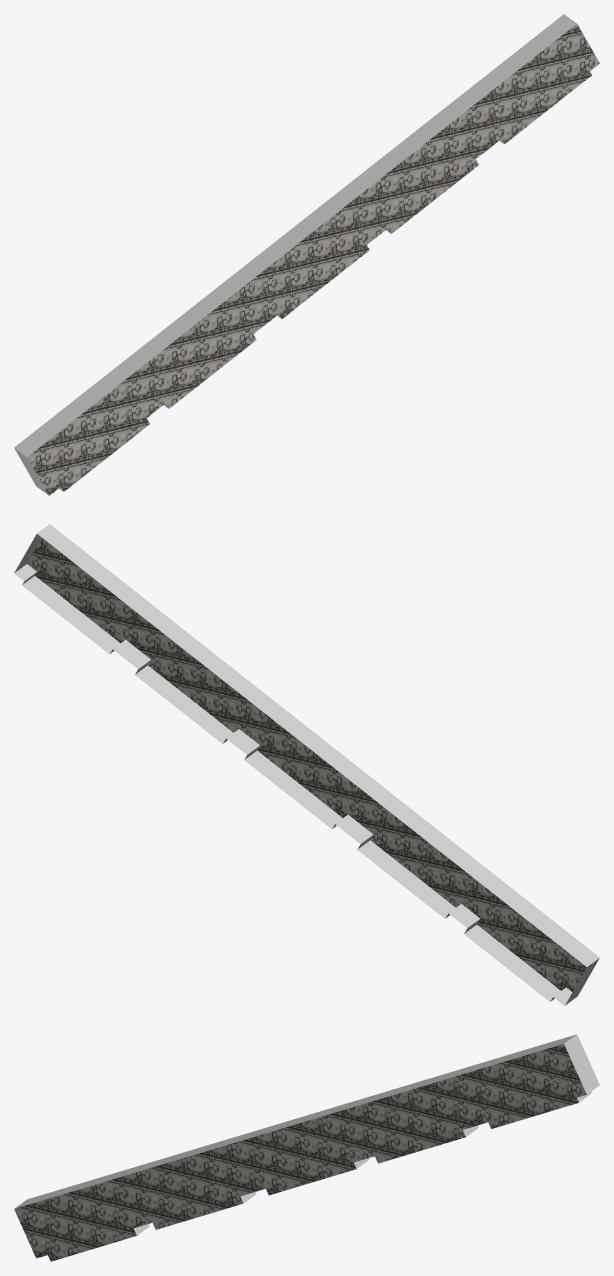
The model's file is geospecific_75.obj.
3 renders of one model, top to bottom at view 1: azimuth 30°, elevation 25°; view 2: azimuth 150°, elevation 25°; view 3: azimuth 330°, elevation 25°, orthographic.
Parts seen in each view (by area): view 1: Building; view 2: Building; view 3: Building.
Part boxes in pixels (x1,y1,x2,y2): Building: (14,14,599,495); Building: (14,524,599,1005); Building: (14,1034,599,1261).
Bounding box in the file's own units: 75.81 × 43.45 × 3.
